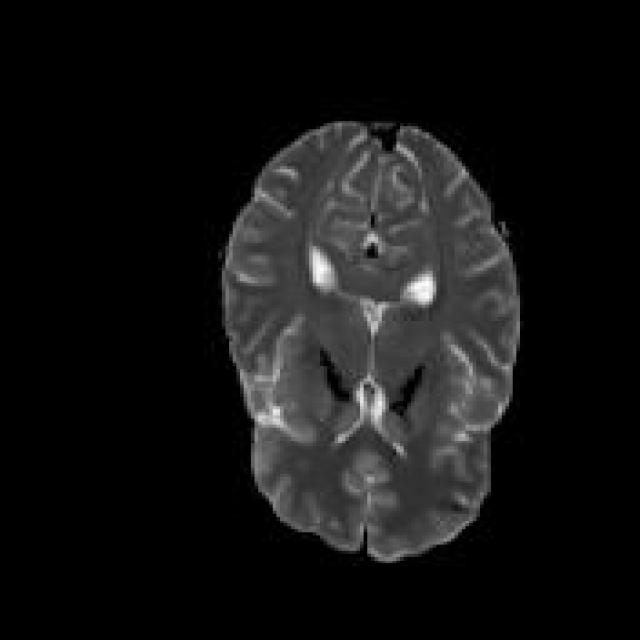CONTROL: (218, 117, 520, 563)
